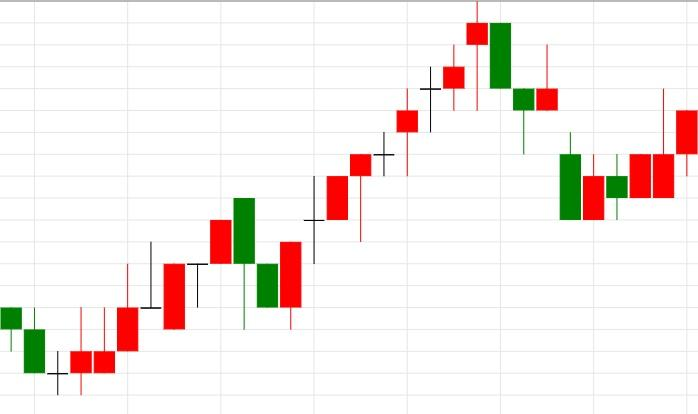bearish_engulfing_fall: (70, 198, 255, 396)
